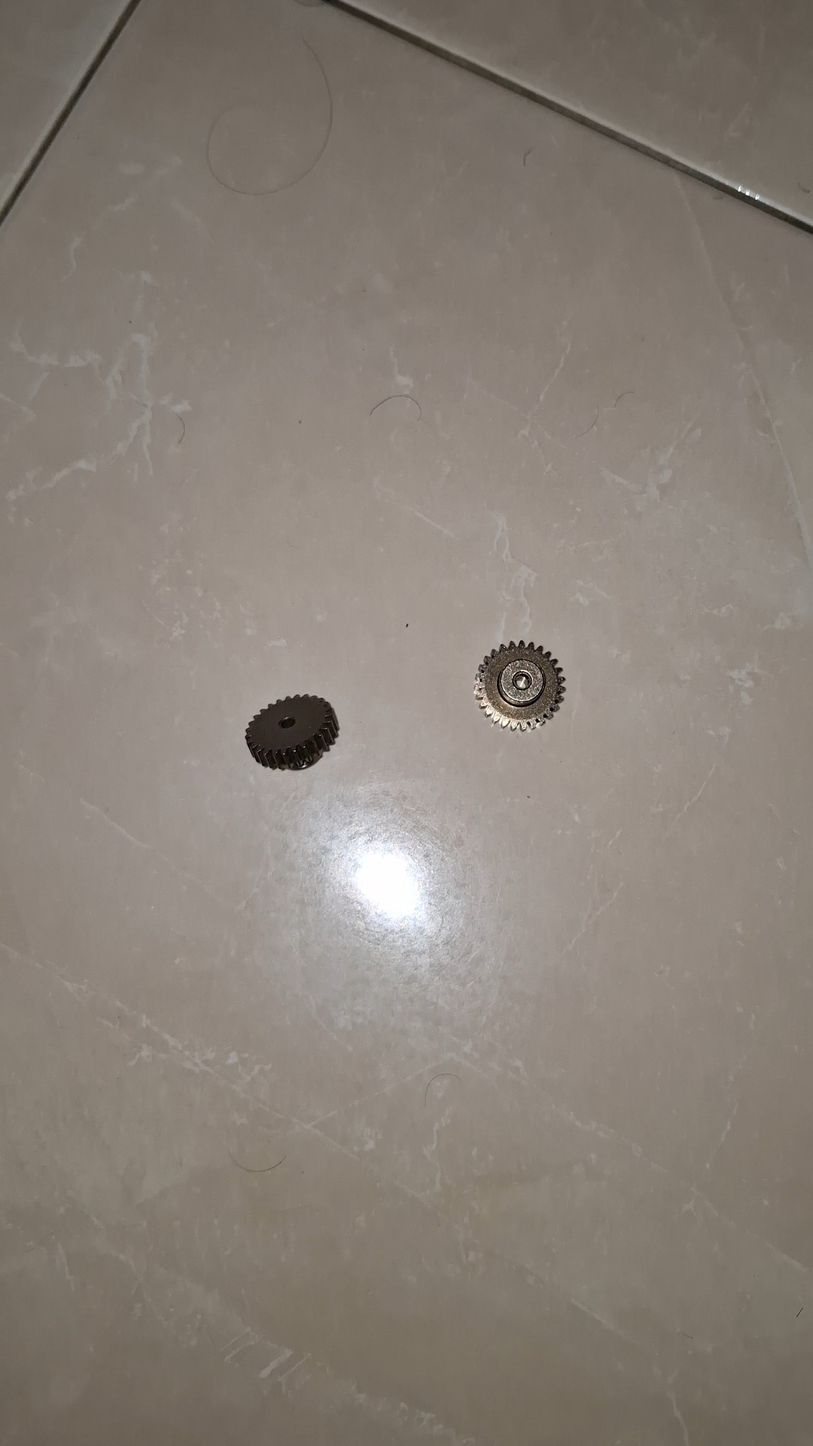spur gear: (474, 642, 564, 730), (245, 695, 338, 769)
